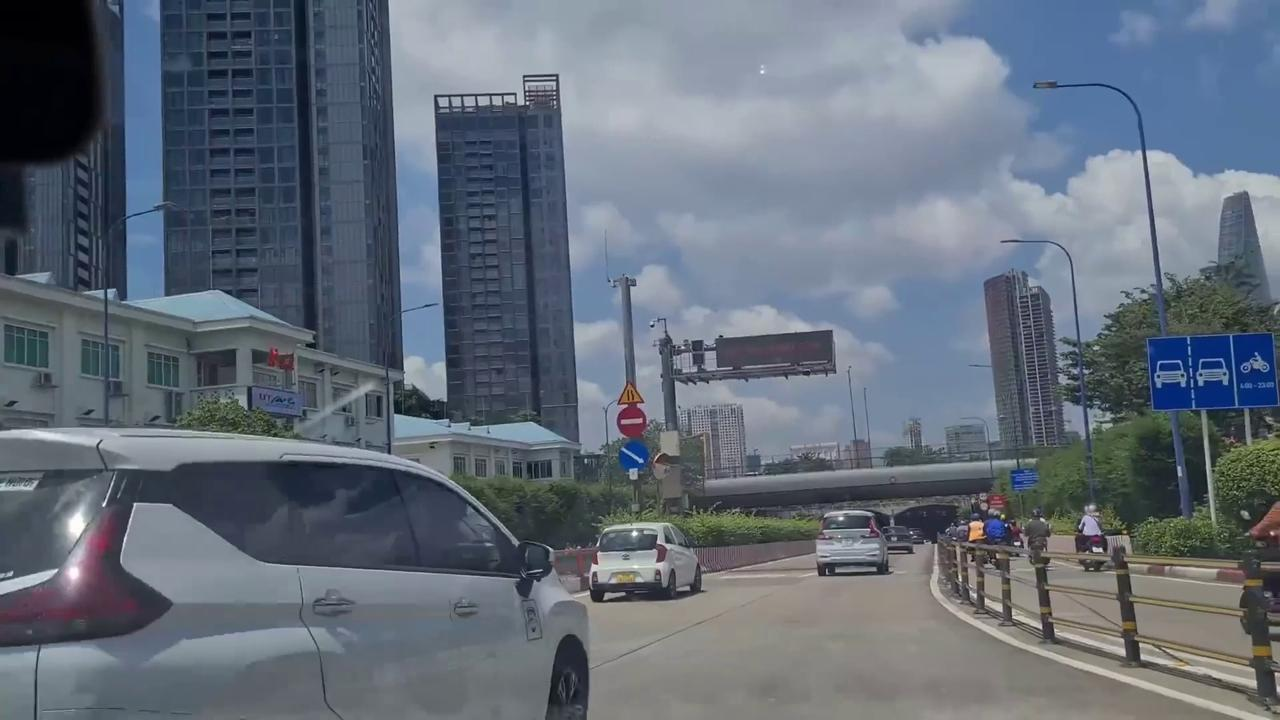Cấm đi ngược chiều: (615, 404, 648, 439)
Hướng phải đi vòng sang phải: (617, 439, 651, 472)
Làn đường cho từng xe: (1150, 335, 1274, 410)
Đuờng hẹp: (616, 380, 646, 404)
